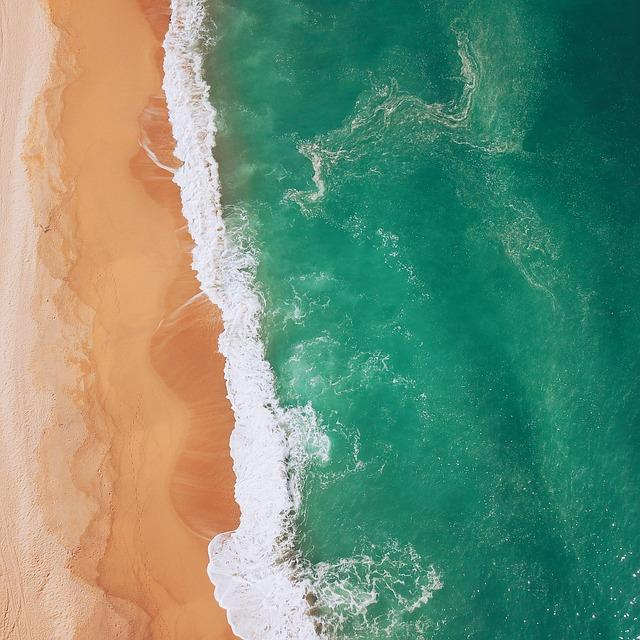Non_Gorille: (51, 6, 640, 640)
